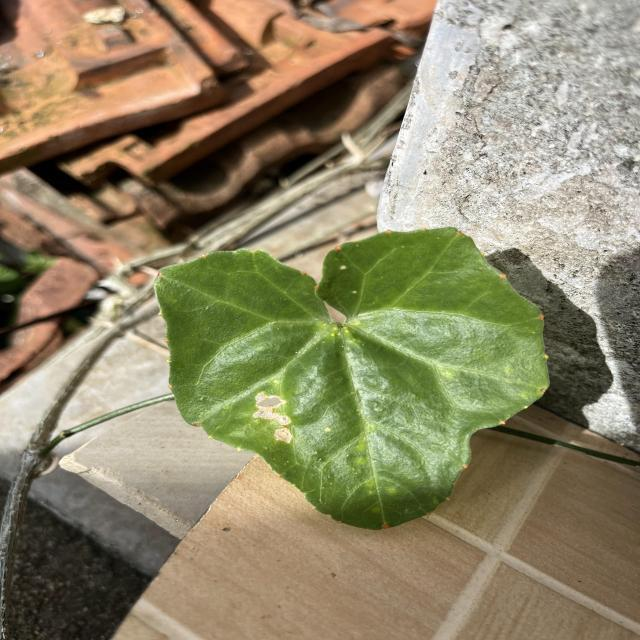Coccinia grandis: (151, 223, 554, 533)
